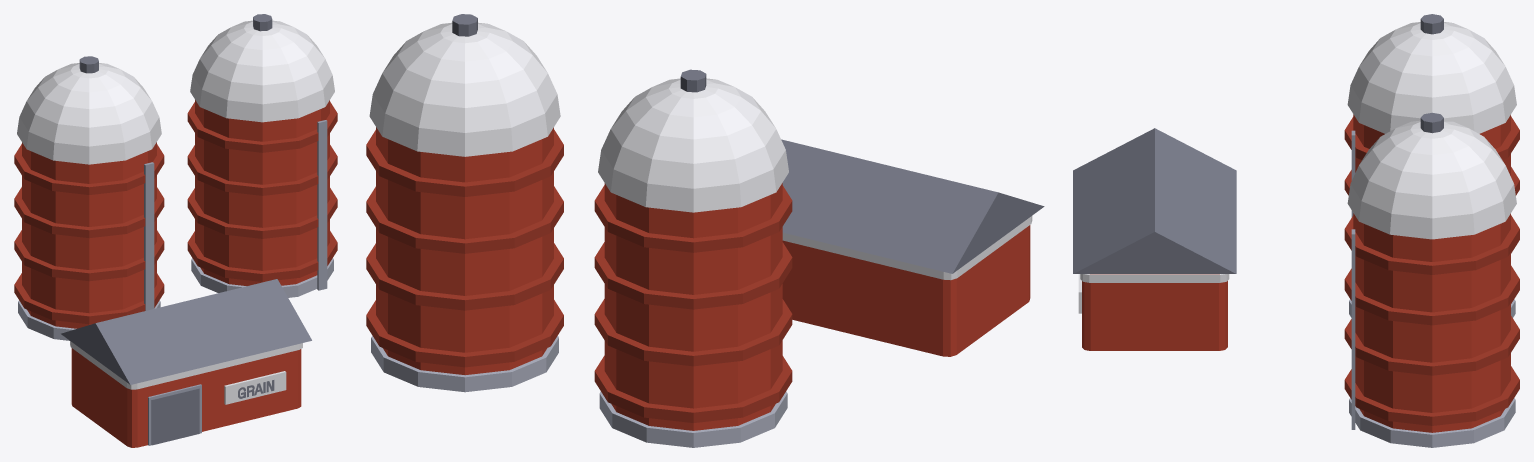
The model's file is silo-2x2-t4-tone-a.glb.
The picture shows the model from 3 angles, left to right: view 1: azimuth 30°, elevation 25°; view 2: azimuth 150°, elevation 25°; view 3: azimuth 270°, elevation 25°; orthographic projection. The views are drawn at different scales.
Parts seen in each view (by area): view 1: silo-2x2-t4-tone-a; view 2: silo-2x2-t4-tone-a; view 3: silo-2x2-t4-tone-a.
Boxes of the visible parts, x1=… form: silo-2x2-t4-tone-a: x1=14, y1=14, x2=337, y2=447; silo-2x2-t4-tone-a: x1=366, y1=14, x2=1044, y2=447; silo-2x2-t4-tone-a: x1=1073, y1=14, x2=1519, y2=447.
Size of the model in its own units: 1.62 by 1.12 by 1.53.
1 material, 1 textured.
